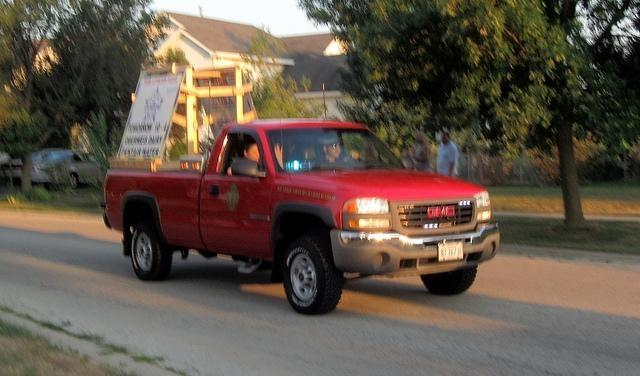car: (30, 148, 101, 188), (0, 156, 25, 186)
truck: (103, 121, 500, 317)
